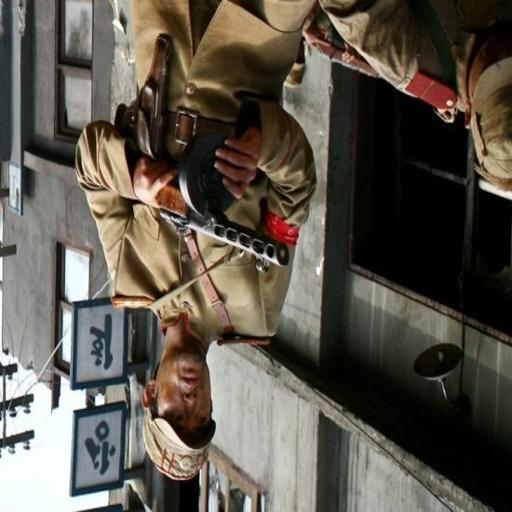north army: (66, 0, 346, 484), (333, 2, 512, 198)
